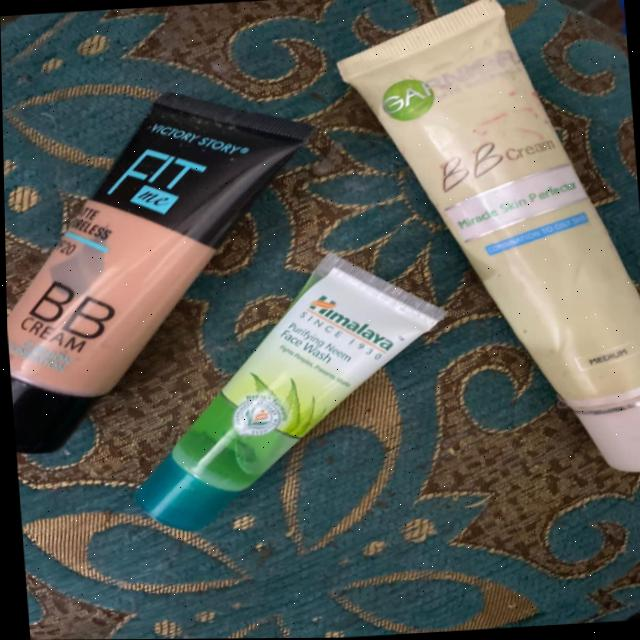bb cream: (363, 0, 640, 482), (1, 74, 303, 369), (149, 270, 456, 530)
